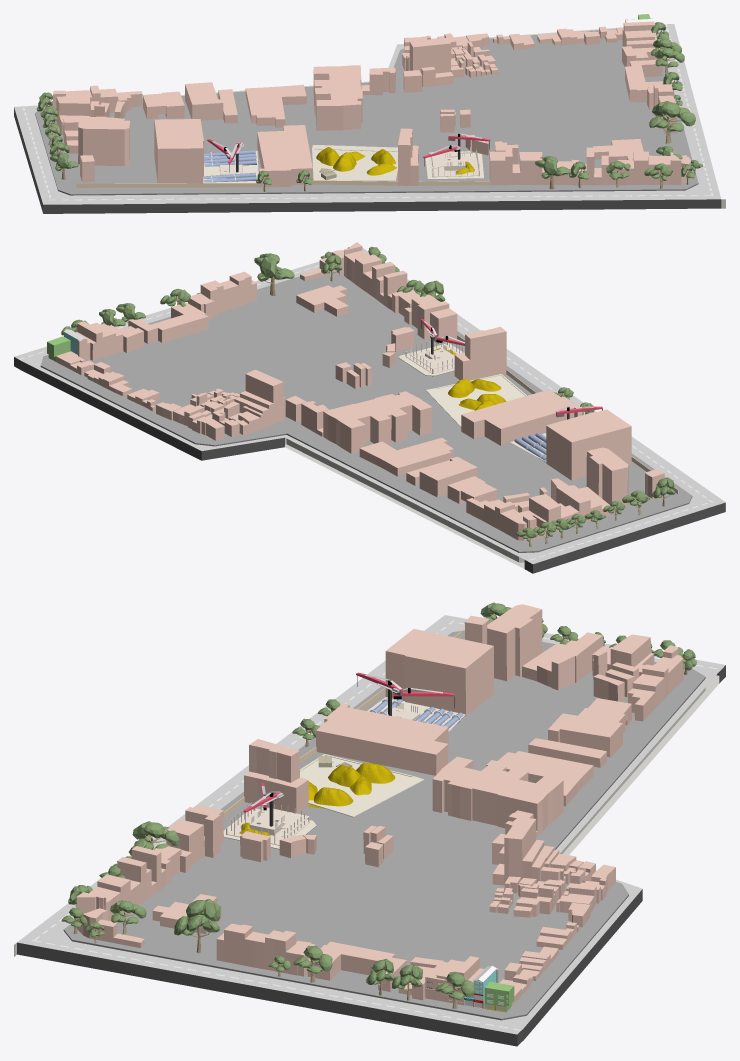
Rendered from van-mieu-campus.glb.
3 renders of one model, top to bottom at view 1: azimuth 30°, elevation 25°; view 2: azimuth 150°, elevation 25°; view 3: azimuth 270°, elevation 25°, orthographic. The views are drawn at different scales.
Visible parts, largest first — view 1: [Color B02] (×2), [Color M05], [Color M02]1, [Color M08], [Color E08], [Color D01], [Color C02], [Color C01], [Color D07]1, [Granite Dark Gray]1, [Color I06], [Color M00] (+3 smaller); view 2: [Color B02] (×2), [Color M05], [Color M02]1, [Color E08], [Color M08], noithat, [Color D01], [Granite Dark Gray]1, [Color D07]1, [Color C01], [Color M00]; view 3: [Color B02] (×2), [Color M05], [Color M02]1, [Color E08], [Color M08], [Color D01], noithat, [Color D07]1, [Color C01], [Granite Dark Gray]1, [Color M00], [Color C08]1.
Part boxes in pixels (bbox=[...]): [Color B02] (×2): bbox=[53, 19, 690, 187]; [Color M05]: bbox=[35, 29, 698, 194]; [Color M02]1: bbox=[14, 24, 720, 204]; [Color M08]: bbox=[14, 107, 721, 213]; [Color E08]: bbox=[36, 22, 702, 184]; [Color D01]: bbox=[204, 145, 483, 182]; [Color C02]: bbox=[76, 180, 490, 187]; [Color C01]: bbox=[203, 147, 479, 183]; [Color D07]1: bbox=[316, 147, 474, 175]; [Granite Dark Gray]1: bbox=[35, 113, 698, 195]; [Color I06]: bbox=[203, 150, 256, 182]; [Color M00]: bbox=[23, 18, 713, 200]; [Color B02] (×2): bbox=[55, 242, 664, 541]; [Color M05]: bbox=[41, 272, 691, 551]; [Color M02]1: bbox=[14, 248, 725, 563]; [Color E08]: bbox=[61, 246, 675, 541]; [Color M08]: bbox=[14, 357, 725, 573]; noithat: bbox=[41, 366, 725, 568]; [Color D01]: bbox=[399, 343, 546, 460]; [Granite Dark Gray]1: bbox=[40, 366, 692, 552]; [Color D07]1: bbox=[433, 348, 505, 410]; [Color C01]: bbox=[405, 338, 678, 494]; [Color M00]: bbox=[18, 265, 713, 560]; [Color B02] (×2): bbox=[76, 604, 683, 1006]; [Color M05]: bbox=[64, 630, 705, 1018]; [Color M02]1: bbox=[14, 615, 725, 1034]; [Color E08]: bbox=[61, 602, 696, 999]; [Color M08]: bbox=[17, 665, 725, 1046]; [Color D01]: bbox=[223, 698, 463, 848]; noithat: bbox=[14, 675, 719, 1018]; [Color D07]1: bbox=[239, 763, 395, 836]; [Color C01]: bbox=[224, 697, 465, 845]; [Granite Dark Gray]1: bbox=[63, 677, 705, 1020]; [Color M00]: bbox=[32, 620, 717, 1030]; [Color C08]1: bbox=[73, 614, 687, 1008].
Bounding box in the file's own units: 338 × 32.16 × 242.
